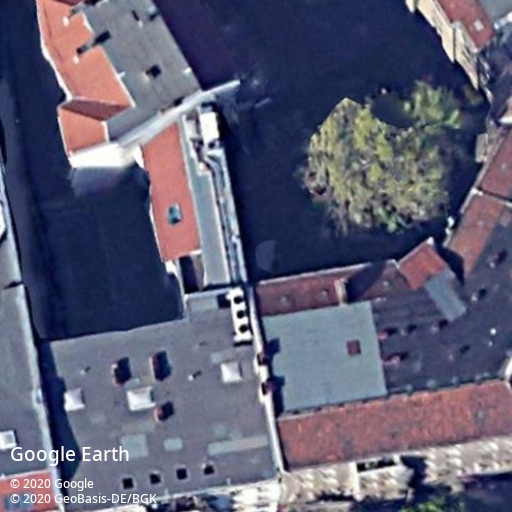Chiller: (229, 287, 253, 341)
